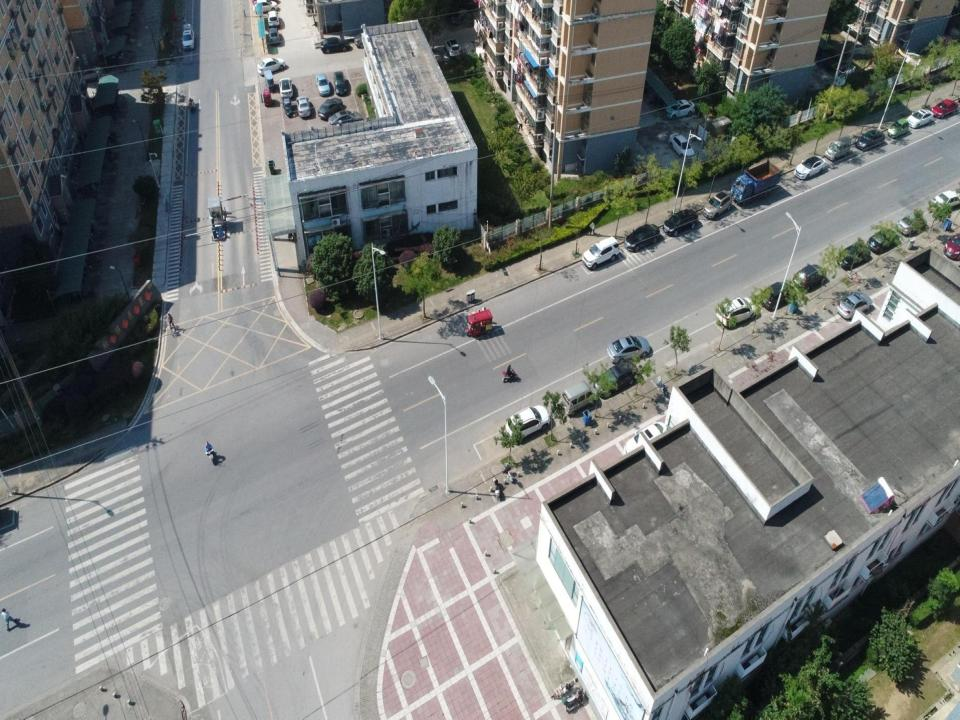car: (593, 358, 641, 398), (504, 404, 551, 444), (716, 295, 758, 329), (581, 236, 621, 271), (606, 335, 651, 363), (836, 290, 874, 320), (792, 263, 827, 295), (624, 223, 661, 253), (836, 240, 871, 270), (662, 208, 699, 236), (760, 281, 794, 311), (702, 189, 732, 221), (793, 154, 826, 181), (867, 228, 900, 254), (668, 132, 695, 160), (854, 129, 886, 152), (897, 211, 926, 236), (930, 190, 959, 213), (328, 109, 362, 128), (664, 98, 696, 118), (905, 107, 934, 129), (319, 36, 351, 55), (931, 98, 958, 120), (256, 57, 286, 76), (318, 97, 342, 119), (888, 117, 910, 139), (332, 69, 348, 97), (315, 71, 331, 97), (449, 4, 467, 26), (353, 30, 374, 48), (295, 95, 311, 118), (181, 22, 194, 49), (444, 37, 460, 58), (278, 77, 294, 98), (252, 0, 278, 11), (266, 9, 280, 26), (268, 26, 280, 44)
truck: (730, 158, 782, 206)
van: (559, 380, 594, 416), (824, 137, 852, 162)
